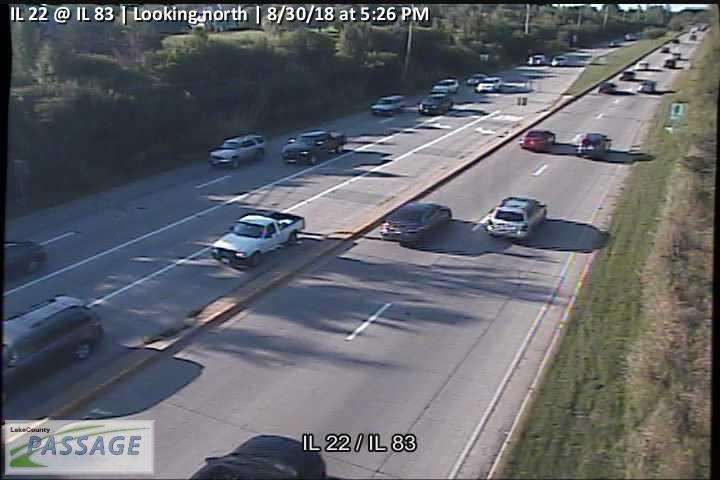SUV: (1, 293, 103, 399), (206, 134, 268, 168)
Sedan: (379, 204, 453, 247), (485, 195, 548, 238), (576, 131, 611, 159), (416, 91, 455, 115), (370, 93, 406, 117), (518, 130, 556, 150), (475, 75, 501, 93), (429, 78, 459, 92)
Truck: (210, 210, 306, 267), (281, 127, 346, 166)
